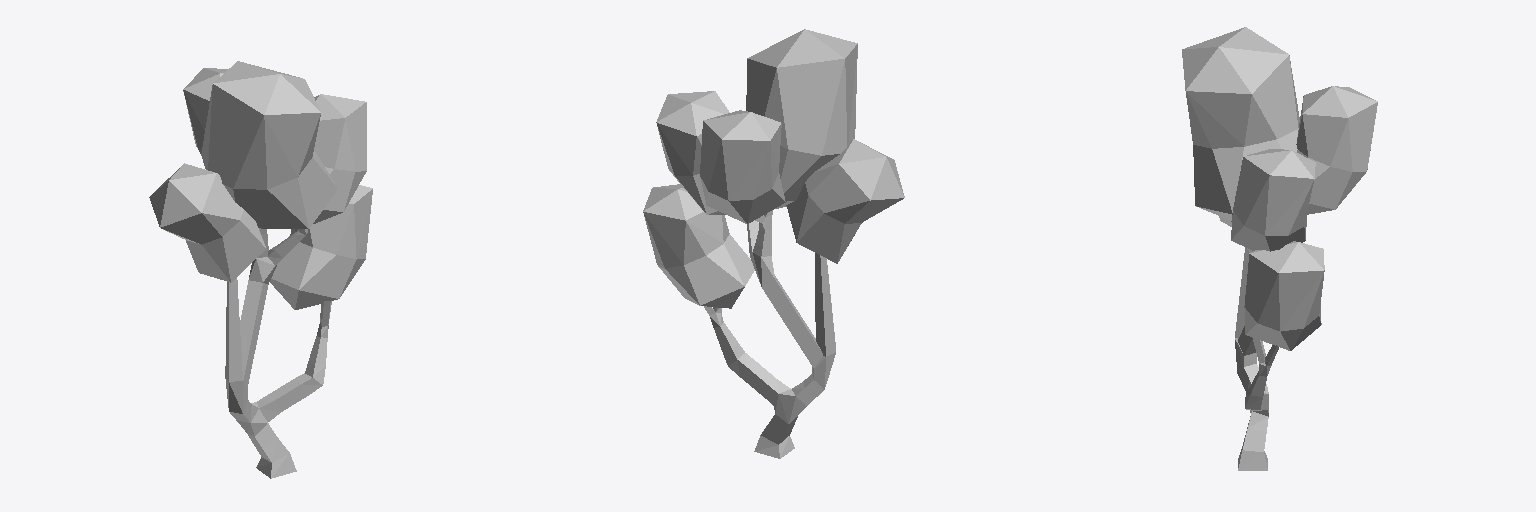
File: Tree1.obj
3 renders of one model, left to right at view 1: azimuth 30°, elevation 25°; view 2: azimuth 150°, elevation 25°; view 3: azimuth 270°, elevation 25°, orthographic.
Visible parts, largest first — view 1: Icosphere.027, Cube.006, Icosphere.026, Icosphere.028, Icosphere.030, Icosphere.029; view 2: Icosphere.027, Cube.006, Icosphere.028, Icosphere.026, Icosphere.029, Icosphere.030; view 3: Icosphere.027, Icosphere.029, Icosphere.028, Icosphere.030, Cube.006.
Part boxes in pixels (left/top/right/bottom): Icosphere.027: left=201, top=61, right=337, bottom=228; Cube.006: left=225, top=228, right=331, bottom=478; Icosphere.026: left=149, top=163, right=265, bottom=282; Icosphere.028: left=270, top=185, right=372, bottom=309; Icosphere.030: left=313, top=94, right=366, bottom=223; Icosphere.029: left=183, top=68, right=227, bottom=153; Icosphere.027: left=746, top=29, right=857, bottom=208; Cube.006: left=704, top=210, right=835, bottom=458; Icosphere.028: left=643, top=184, right=754, bottom=308; Icosphere.026: left=786, top=139, right=904, bottom=263; Icosphere.029: left=700, top=110, right=785, bottom=223; Icosphere.030: left=656, top=91, right=729, bottom=214; Icosphere.027: left=1182, top=27, right=1299, bottom=220; Icosphere.029: left=1296, top=86, right=1377, bottom=214; Icosphere.028: left=1244, top=241, right=1324, bottom=350; Icosphere.030: left=1231, top=149, right=1315, bottom=251; Cube.006: left=1235, top=247, right=1278, bottom=470.
Bounding box in the file's own units: 2.77 × 4.69 × 2.02.